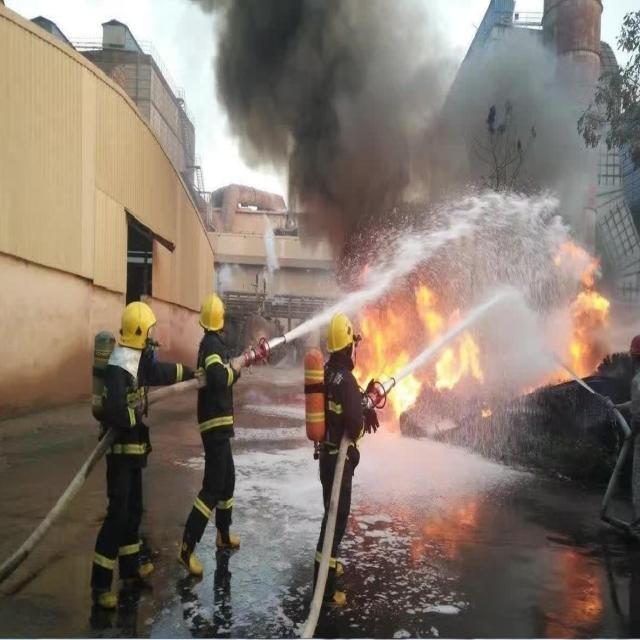Fire: (351, 280, 494, 420), (522, 241, 610, 396)
Smoke: (190, 1, 640, 395)
